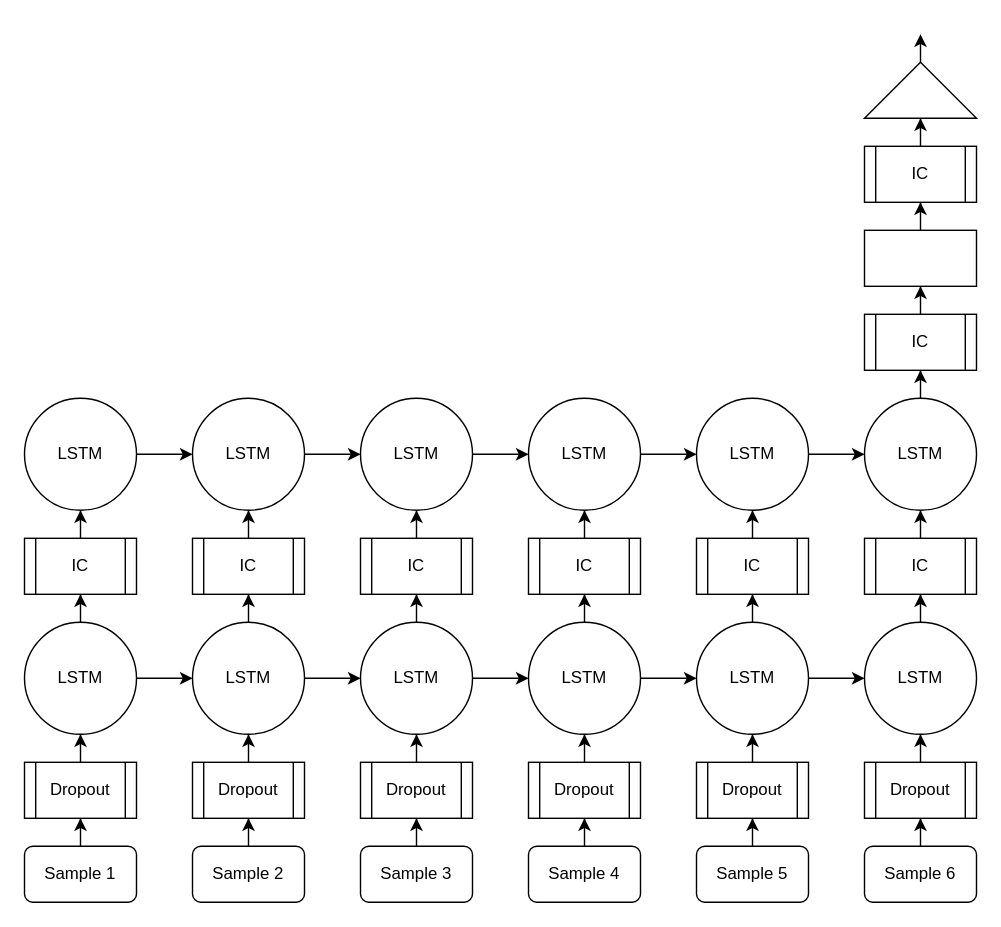
This 1001x927 diagram has some shape labels left out. Each missing label, with the centre of its shape:
Fully Connected: the point at 919,257
Output: the point at 919,89
